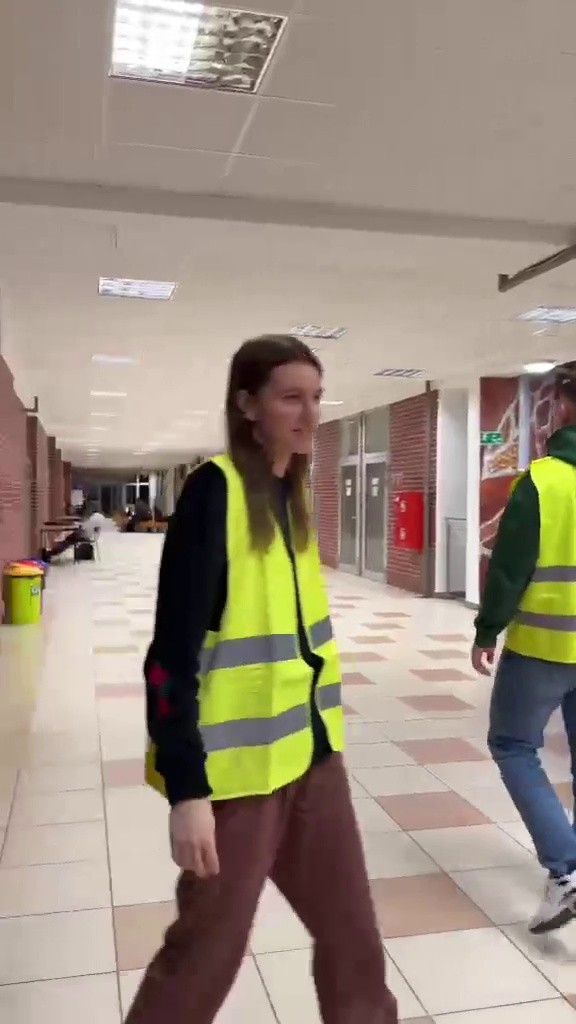vest: (146, 333, 410, 1024), (473, 346, 576, 946)
